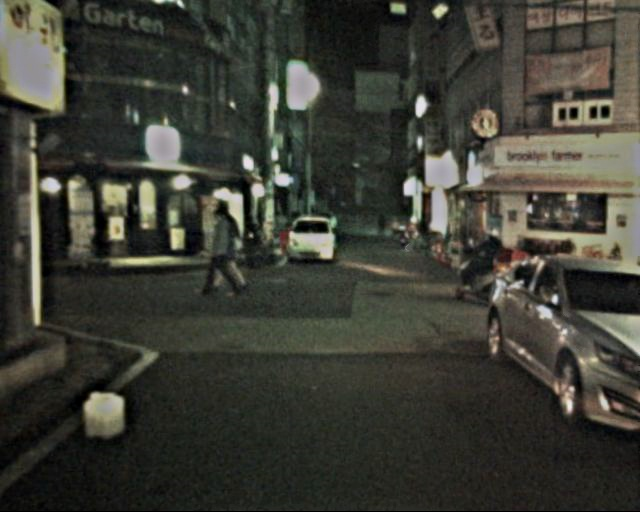person: (203, 207, 239, 298), (472, 230, 507, 303)
